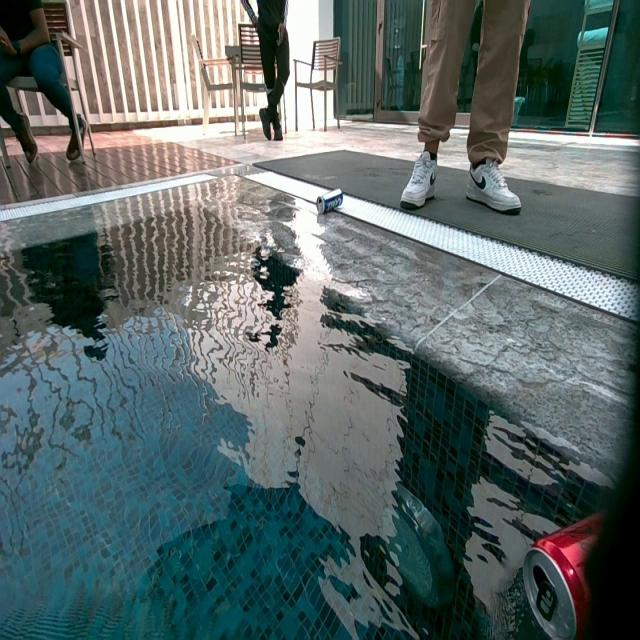Cans: (521, 514, 600, 640), (314, 188, 345, 216)
